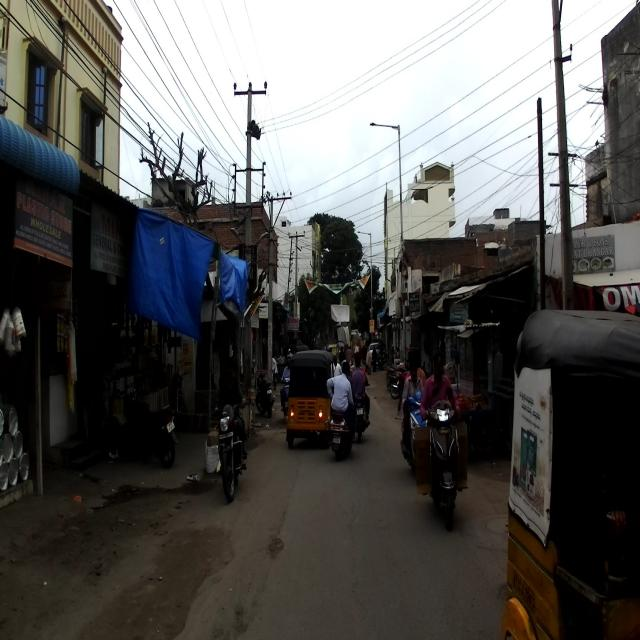autorickshaw: (498, 307, 640, 639), (285, 351, 337, 449)
motorcycle: (213, 402, 248, 502)
scooter: (414, 384, 468, 532), (400, 390, 428, 480), (328, 395, 358, 462)
